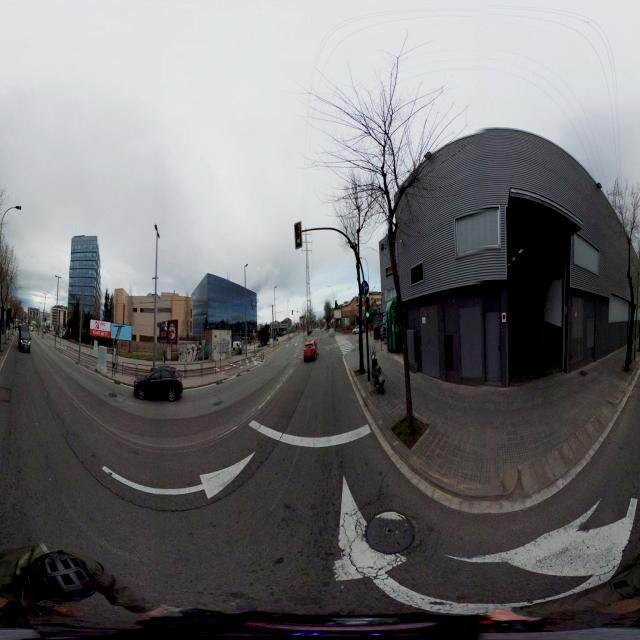bike: (371, 348, 385, 392)
car: (133, 364, 184, 403), (303, 338, 317, 362)
